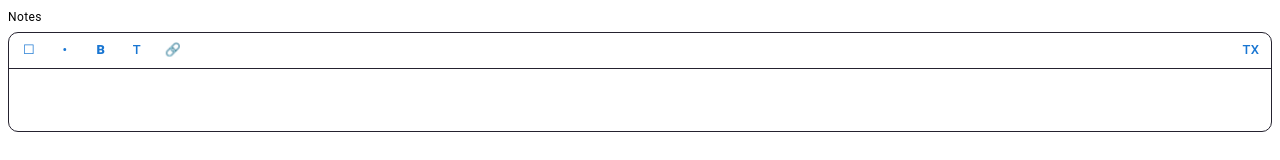
Test case: MarkdownEditor › Intertitre inserts its mark
The width and height of the screenshot is (1280, 160).
Click the button named "Intertitre" at (137,50), box [121, 35, 153, 66]
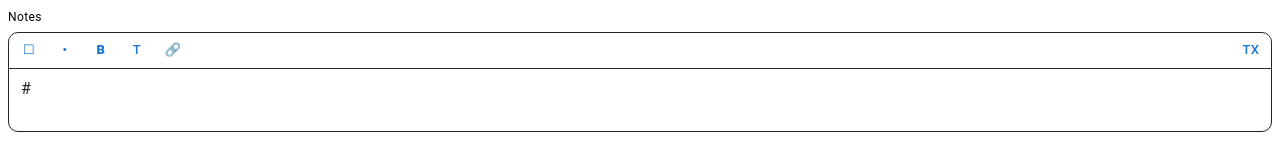
expect the text box named "Notes" holds "# ": met, box [21, 77, 1259, 123]
